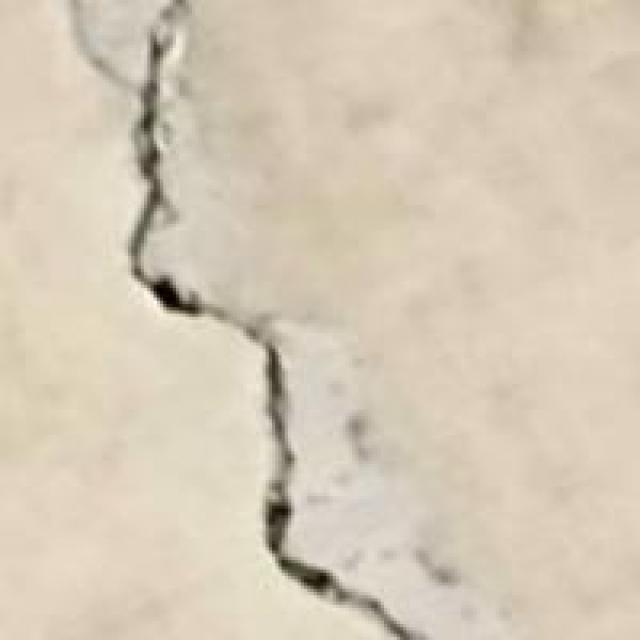crack: (61, 0, 422, 634)
